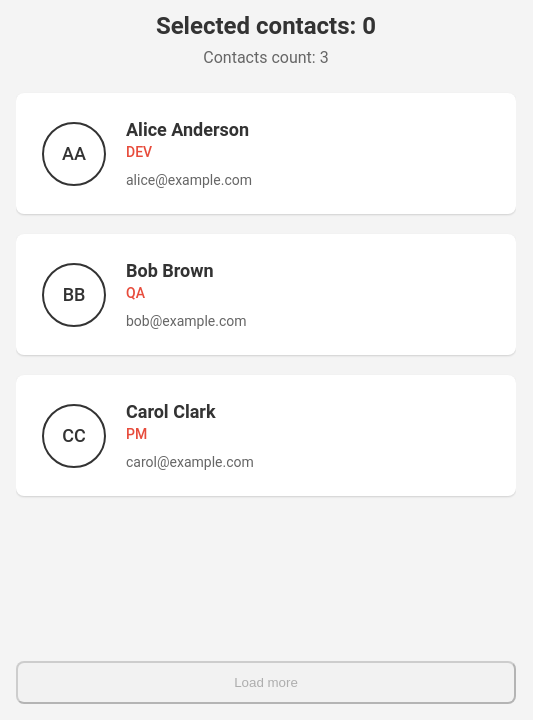
Test: App › selects, deselects, and moves selected contact to top
This screenshot has width=533, height=720.
Expected: the text "Alice Anderson" is shown, [126, 119, 249, 140]
Step 1. Click the text "Bob Brown" → x=170, y=270, box [126, 260, 214, 281]
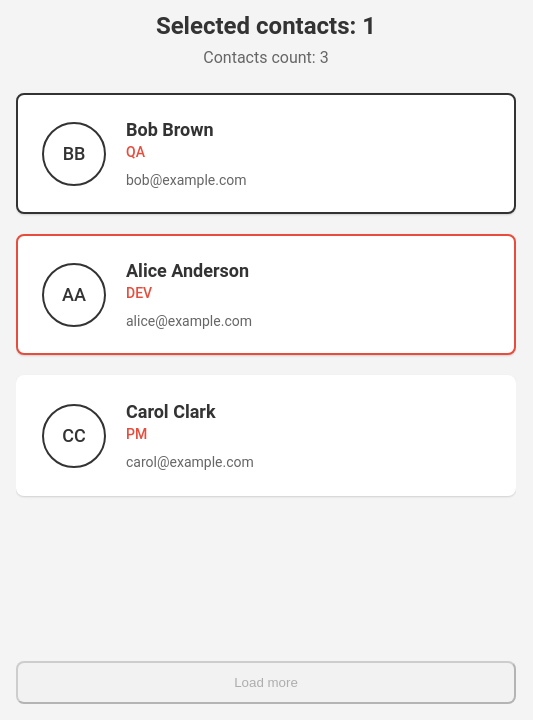
Now the text "Selected contacts: 1" is shown, box [156, 12, 376, 40]
Step 2. Click the text "Bob Brown" → x=170, y=130, box [126, 119, 214, 140]
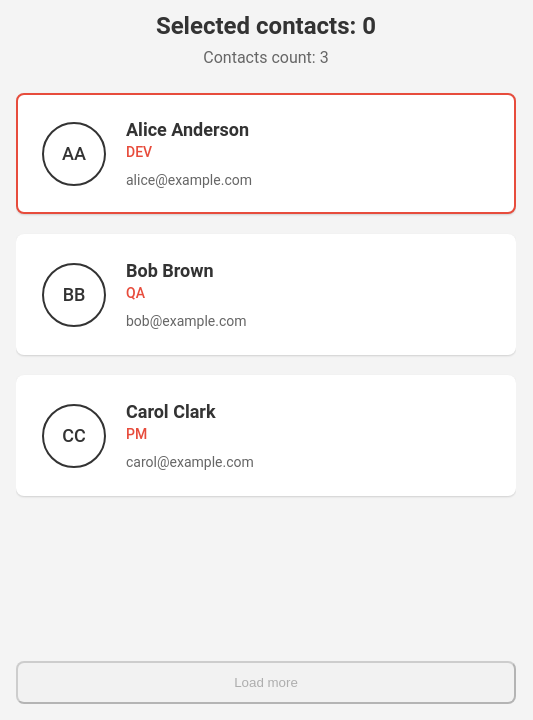
Now the text "Selected contacts: 0" is shown, box [156, 12, 376, 40]
